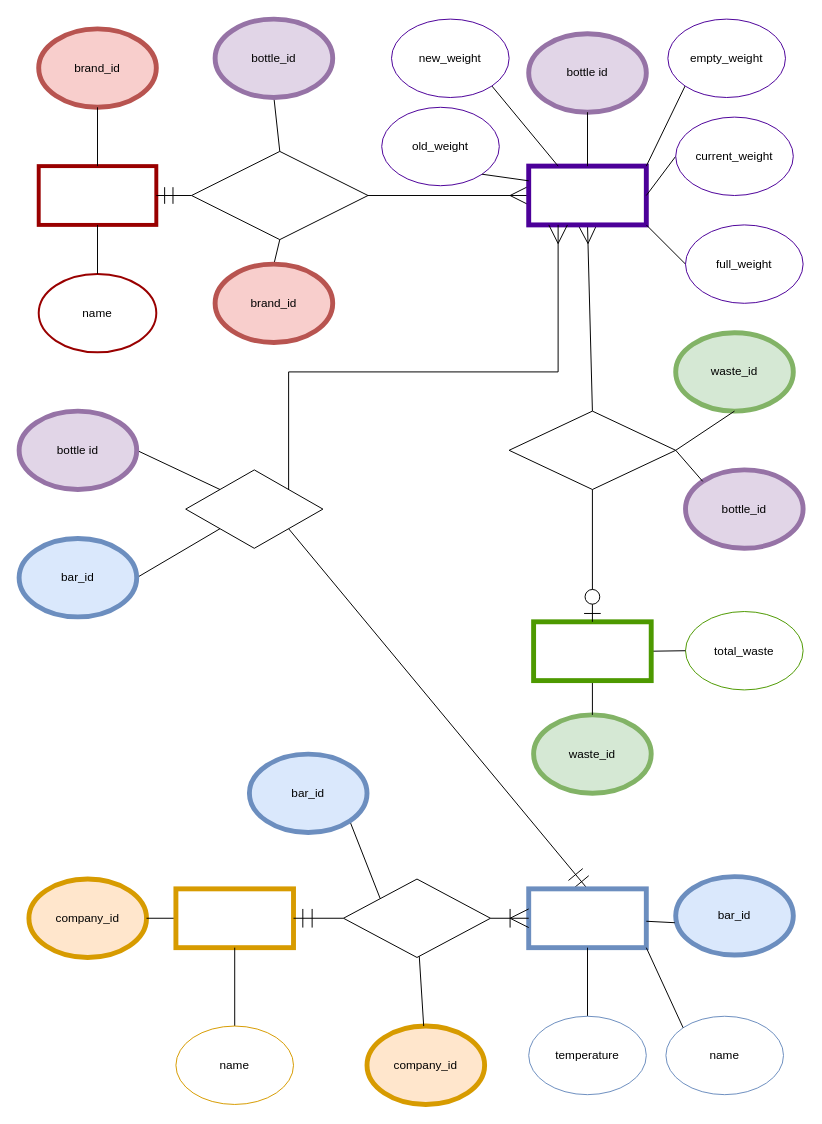
This 822x1124 diagram has some shape labels left out. The box of each missing label's shape, as (x1, y1, x2, y2) in pixels:
Alcohol brand: (36, 164, 158, 226)
Bar: (526, 886, 648, 950)
Bottle: (526, 163, 648, 227)
Company: (173, 886, 295, 950)
has a: (508, 410, 676, 490)
has a <- makes a ->: (191, 150, 368, 240)
is on: (185, 469, 323, 548)
owns: (343, 878, 490, 957)
Waste: (531, 619, 653, 683)
